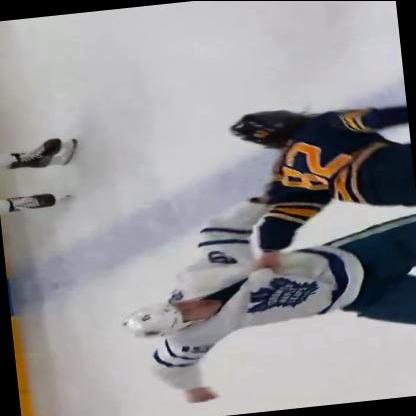voilence: (107, 174, 415, 411), (222, 91, 415, 302)
